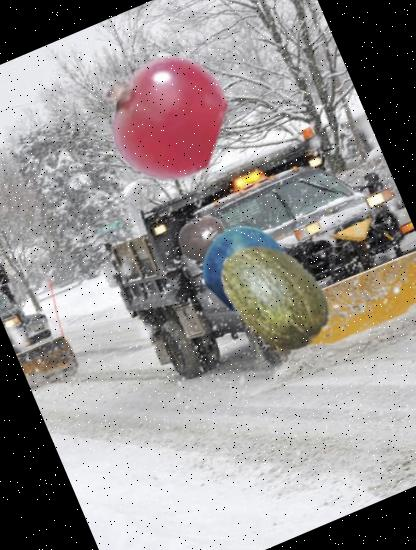Huckleberry: (189, 211, 303, 325)
Melon: (192, 220, 350, 379)
Passion: (169, 204, 236, 271)
Redcurrant: (81, 34, 246, 198)
